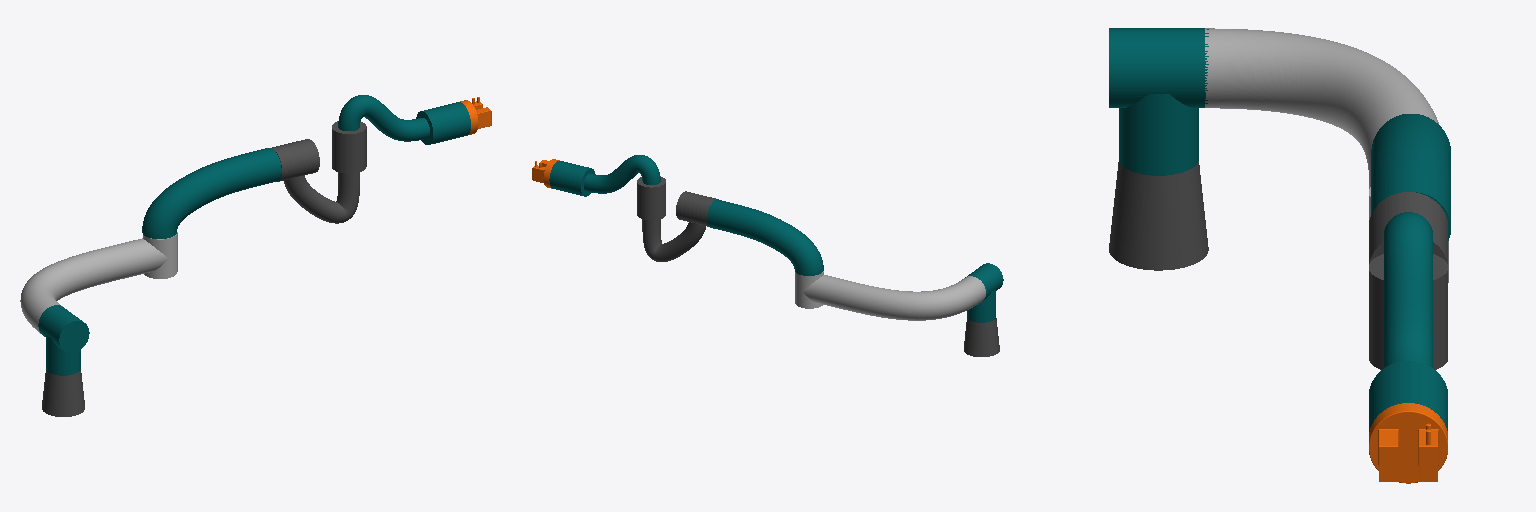
URDF robot description (custom_6r):
<?xml version="1.0" encoding="UTF-8"?>
<robot name="custom_6r">
  
  <!--
  Initial assembly generated from the supplied STL meshes and joint data.
  
  Assumption for this first version:
  - Each STL is expressed in its corresponding link frame.
  - Therefore visual/collision mesh origins are xyz="0 0 0", rpy="0 0 0".
  - The joint origins below are used exactly as supplied and are relative
  to their parent link frames, as required by URDF.
  
  Units:
  - STL geometry appears to be in metres.
  - URDF distances are metres and angles are radians.
  -->
  
  <material name="color_1">
  <color rgba="0.35 0.35 0.35 1.0"/>
  </material>
  <material name="kuka_orange">
  <color rgba="0.95 0.45 0.08 1.0"/>
  </material>
  <material name="color_1">
  <color rgba="0.20 0.22 0.23 1.0"/>
  </material>
  
  <material name="color_2">
  <color rgba="0.05 0.42 0.43 1.0"/>
  </material>
  
  <material name="gray_white">
  <color rgba="0.7 0.7 0.7 1.0"/>
  </material>
  
  <link name="base_link">
  <visual>
  <origin xyz="0 0 0" rpy="0 0 0"/>
  <geometry>
  <mesh filename="package://custom_6r_description/meshes/base_link.stl"/>
  </geometry>
  <material name="color_1"/>
  </visual>
  <collision>
  <origin xyz="0 0 0" rpy="0 0 0"/>
  <geometry>
  <mesh filename="package://custom_6r_description/meshes/base_link.stl"/>
  </geometry>
  </collision>
  </link>
  
  <link name="link_1">
  <visual>
  <origin xyz="0 0 0" rpy="0 0 0"/>
  <geometry>
  <mesh filename="package://custom_6r_description/meshes/link_1_0.stl"/>
  </geometry>
  <material name="color_2"/>
  </visual>
  <collision>
  <origin xyz="0 0 0" rpy="0 0 0"/>
  <geometry>
  <mesh filename="package://custom_6r_description/meshes/link_1.stl"/>
  </geometry>
  </collision>
  </link>
  
  <joint name="joint_1" type="revolute">
  <parent link="base_link"/>
  <child link="link_1"/>
  <origin xyz="0 0 0.5" rpy="0 0 0"/>
  <axis xyz="0 0 1"/>
  <limit lower="-3.141592653589793" upper="3.141592653589793" effort="100" velocity="2.0"/>
  </joint>
  
  <link name="link_2">
  <visual>
  <origin xyz="0 0.25 0" rpy="0 0 -1.5707"/>
  <geometry>
  <mesh filename="package://custom_6r_description/meshes/link_2.stl" scale="1 1 1"/>
  </geometry>
  <material name="gray_white"/>
  </visual>
  <collision>
  <origin xyz="0 0 0" rpy="0 0 0"/>
  <geometry>
  <mesh filename="package://custom_6r_description/meshes/link_2.stl"/>
  </geometry>
  </collision>
  </link>
  
  <joint name="joint_2" type="revolute">
  <parent link="link_1"/>
  <child link="link_2"/>
  <origin xyz="0 0 0.5" rpy="0 0 0"/>
  <axis xyz="0 1 0"/>
  <limit lower="-3.141592653589793" upper="3.141592653589793" effort="100" velocity="2.0"/>
  </joint>
  
  <link name="link_3_d3">
  <visual>
  <origin xyz="0 0 0.25" rpy="0 0 0"/>
  <geometry>
  <mesh filename="package://custom_6r_description/meshes/link_3_d3.stl" scale="1 1 1"/>
  </geometry>
  <material name="color_2"/>
  </visual>
  <collision>
  <origin xyz="0 0 0" rpy="0 0 0"/>
  <geometry>
  <mesh filename="package://custom_6r_description/meshes/link_3_d3.stl"/>
  </geometry>
  </collision>
  </link>
  
  <joint name="joint_3" type="revolute">
  <parent link="link_2"/>
  <child link="link_3_d3"/>
  <origin xyz="2 1.25 0.0" rpy="0 0 0"/>
  <axis xyz="0 0 1"/>
  <limit lower="-3.141592653589793" upper="3.141592653589793" effort="100" velocity="2.0"/>
  </joint>
  
  <!-- joint 4 -->
  <link name="link_4">
  <visual>
  <origin xyz="0 0 0" rpy="0 1.5707 0"/>
  <geometry>
  <mesh filename="package://custom_6r_description/meshes/link_4.stl" scale="1 1 1"/>
  </geometry>
  <material name="color_1"/>
  </visual>
  <collision>
  <origin xyz="0 0 0" rpy="0 0 0"/>
  <geometry>
  <mesh filename="package://custom_6r_description/meshes/link_4.stl"/>
  </geometry>
  </collision>
  </link>
  
  <joint name="joint_4" type="revolute">
  <parent link="link_3_d3"/>
  <child link="link_4"/>
  <origin xyz="1.5 0 0.75" rpy="0 0 0"/>
  <axis xyz="1 0 0"/>
  <limit lower="-3.141592653589793" upper="3.141592653589793" effort="100" velocity="2.0"/>
  </joint>
  
  <!-- joint 5 -->
  <link name="link_5">
  <visual>
  <origin xyz="0 0 0.25" rpy="0 0 0"/>
  <geometry>
  <mesh filename="package://custom_6r_description/meshes/link_5.stl" scale="1 1 1"/>
  </geometry>
  <material name="color_2"/>
  </visual>
  <collision>
  <origin xyz="0 0 0" rpy="0 0 0"/>
  <geometry>
  <mesh filename="package://custom_6r_description/meshes/link_5.stl"/>
  </geometry>
  </collision>
  </link>
  
  <joint name="joint_5" type="revolute">
  <parent link="link_4"/>
  <child link="link_5"/>
  <origin xyz="1.0 0.0 0.0" rpy="0 0 0"/>
  <axis xyz="0 0 1"/>
  <limit lower="-3.141592653589793" upper="3.141592653589793" effort="100" velocity="2.0"/>
  </joint>
  
  <!-- joint 6 -->
  <link name="link_6">
  <visual>
  <origin xyz="0 0 0.0" rpy="0 1.5707 0"/>
  <geometry>
  <mesh filename="package://custom_6r_description/meshes/link_6.stl" scale="1 1 1"/>
  </geometry>
  <material name="kuka_orange"/>
  </visual>
  <collision>
  <origin xyz="0 0 0" rpy="0 0 0"/>
  <geometry>
  <mesh filename="package://custom_6r_description/meshes/link_6.stl"/>
  </geometry>
  </collision>
  </link>
  
  <joint name="joint_6" type="revolute">
  <parent link="link_5"/>
  <child link="link_6"/>
  <origin xyz="1.5 0.0 0.0" rpy="0 0 0"/>
  <axis xyz="1 0 0"/>
  <limit lower="-3.141592653589793" upper="3.141592653589793" effort="100" velocity="2.0"/>
  </joint>
  
  <!-- Convenient fixed end-effector frame at link_3 origin for now.
  Move this origin later if the actual TCP is elsewhere. -->
  <link name="tool0"/>
  <joint name="tool0_fixed_joint" type="fixed">
  <parent link="link_3_d3"/>
  <child link="tool0"/>
  <origin xyz="0.0 0.0 0.2" rpy="0 0 0"/>
  </joint>
  
</robot>

--- Facts derived from the render (not from the file) ---
Views: 3 orthographic renders of the robot side by side, from view 1: azimuth 30°, elevation 25°; view 2: azimuth 150°, elevation 25°; view 3: azimuth 270°, elevation 25°.
Model custom_6r with 8 links and 7 joints (6 revolute, 1 fixed), rooted at base_link, posed every joint at zero.
Links seen in each view (by area): view 1: link_2, link_3_d3, link_4, link_5, link_1, base_link, link_6; view 2: link_2, link_3_d3, link_4, link_5, link_1, base_link; view 3: link_2, link_1, link_5, base_link, link_3_d3, link_4, link_6.
Boxes of the visible links, x1,y1,x2,y2 form: link_2: [20, 232, 177, 333]; link_3_d3: [142, 148, 281, 238]; link_4: [272, 121, 366, 223]; link_5: [338, 95, 470, 144]; link_1: [38, 305, 89, 375]; base_link: [42, 370, 84, 416]; link_6: [460, 97, 491, 134]; link_2: [795, 271, 985, 320]; link_3_d3: [707, 199, 823, 275]; link_4: [637, 176, 718, 261]; link_5: [549, 155, 660, 196]; link_1: [965, 263, 1003, 322]; base_link: [964, 318, 999, 356]; link_2: [1205, 28, 1448, 282]; link_1: [1109, 28, 1208, 175]; link_5: [1369, 212, 1447, 431]; base_link: [1109, 161, 1208, 270]; link_3_d3: [1371, 114, 1450, 240]; link_4: [1369, 192, 1447, 369]; link_6: [1369, 403, 1447, 483].
Size in the robot's own frame: 6.55 by 1.71 by 2.35 metres.
Meshes: 7 distinct files referenced, 7 mesh visuals loaded (7 binary STL).
